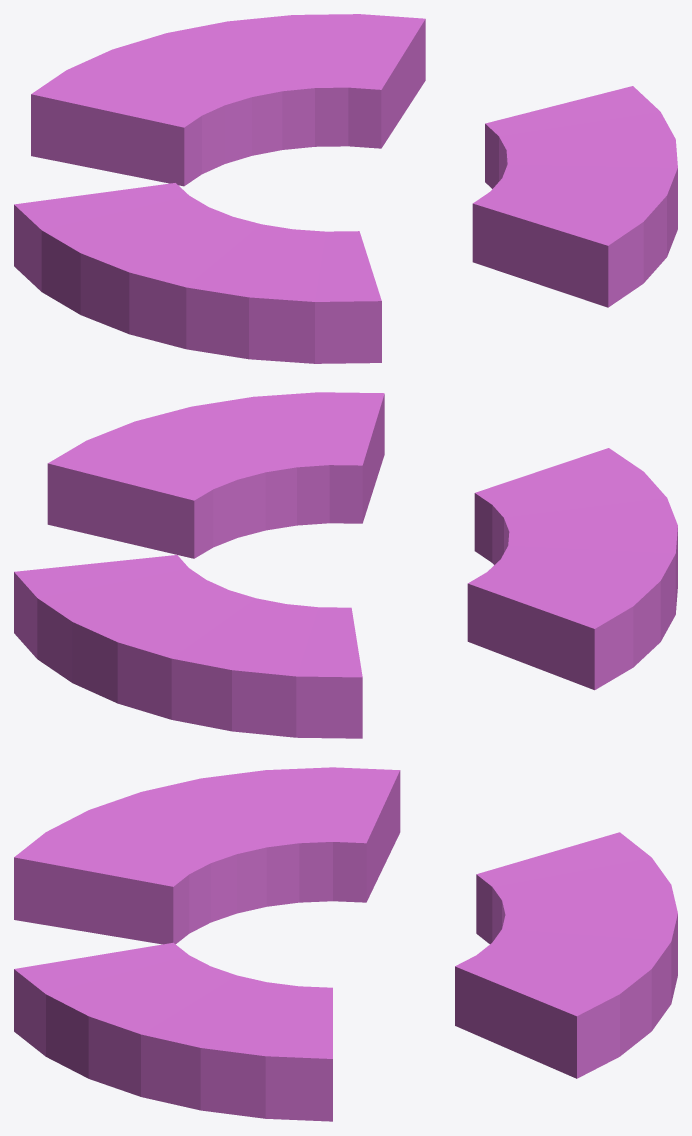
The model's file is assest_2.glb.
3 renders of one model, top to bottom at view 1: azimuth 30°, elevation 25°; view 2: azimuth 150°, elevation 25°; view 3: azimuth 270°, elevation 25°, orthographic. The views are drawn at different scales.
Visible parts, largest first — view 1: Cylinder; view 2: Cylinder; view 3: Cylinder.
Part boxes in pixels (x1,y1,x2,y2): Cylinder: (14, 14, 677, 363); Cylinder: (14, 392, 677, 738); Cylinder: (14, 767, 677, 1121).
Size of the model in its own units: 4 by 0.4 by 3.85.
